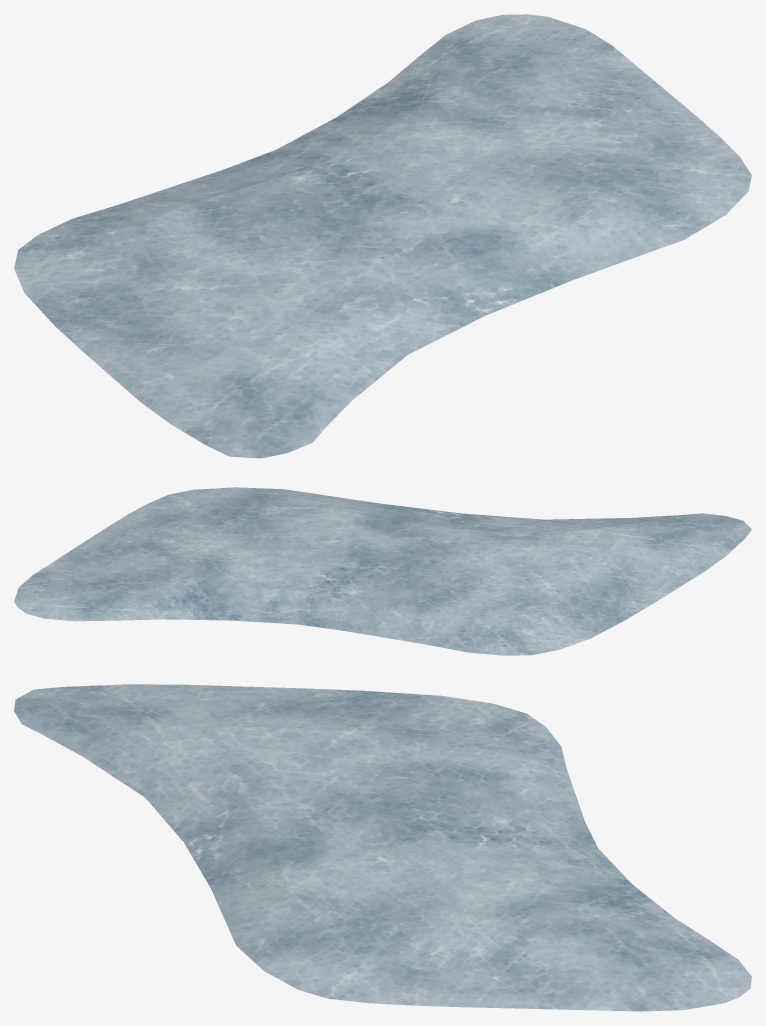
Rendered from IceSlick3.fbx.
3 renders of one model, top to bottom at view 1: azimuth 30°, elevation 25°; view 2: azimuth 150°, elevation 25°; view 3: azimuth 270°, elevation 25°, orthographic. The views are drawn at different scales.
Parts seen in each view (by area): view 1: Circle#2; view 2: Circle#2; view 3: Circle#2.
Boxes of the visible parts, x1,y1,x2,y2 form: Circle#2: [14, 14, 751, 458]; Circle#2: [14, 487, 751, 655]; Circle#2: [14, 684, 751, 1011].
Size of the model in its own units: 3.09 by 0.089 by 2.95.
Materials: 1 (1 with a texture image).
